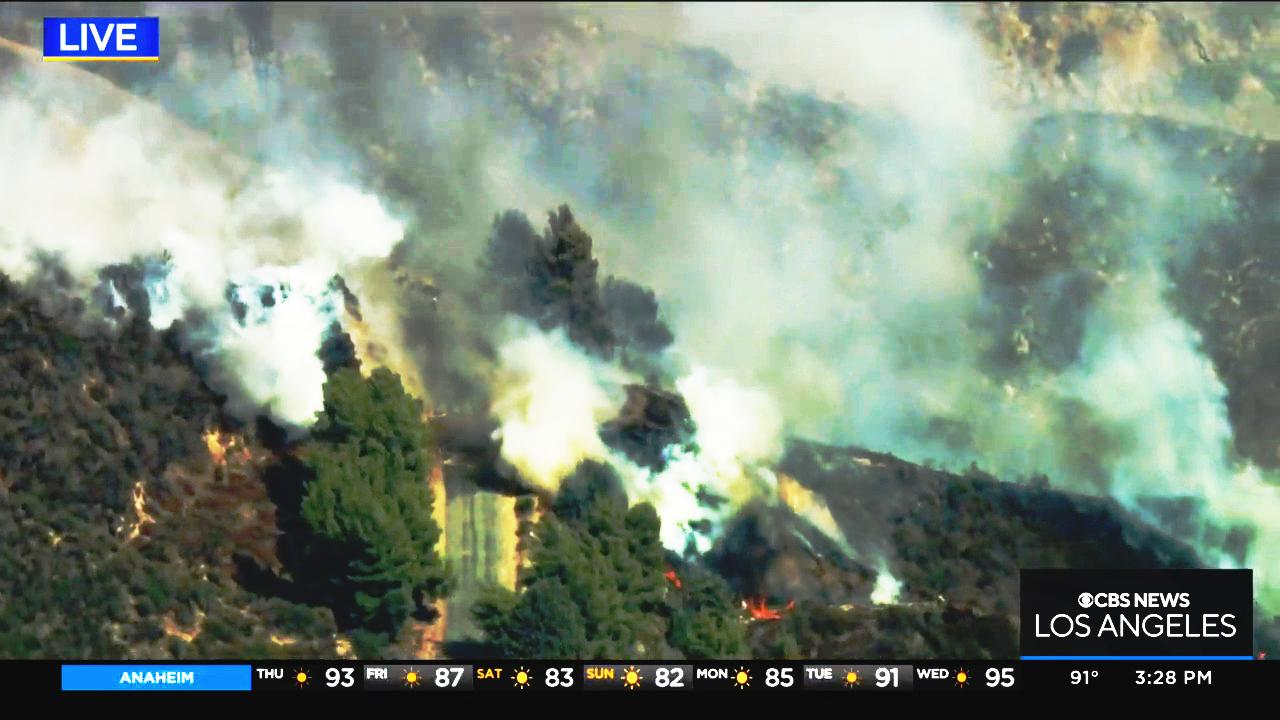smoke: (1137, 352, 1223, 467), (489, 370, 590, 464), (230, 335, 325, 431), (312, 184, 409, 262), (644, 477, 725, 535)
